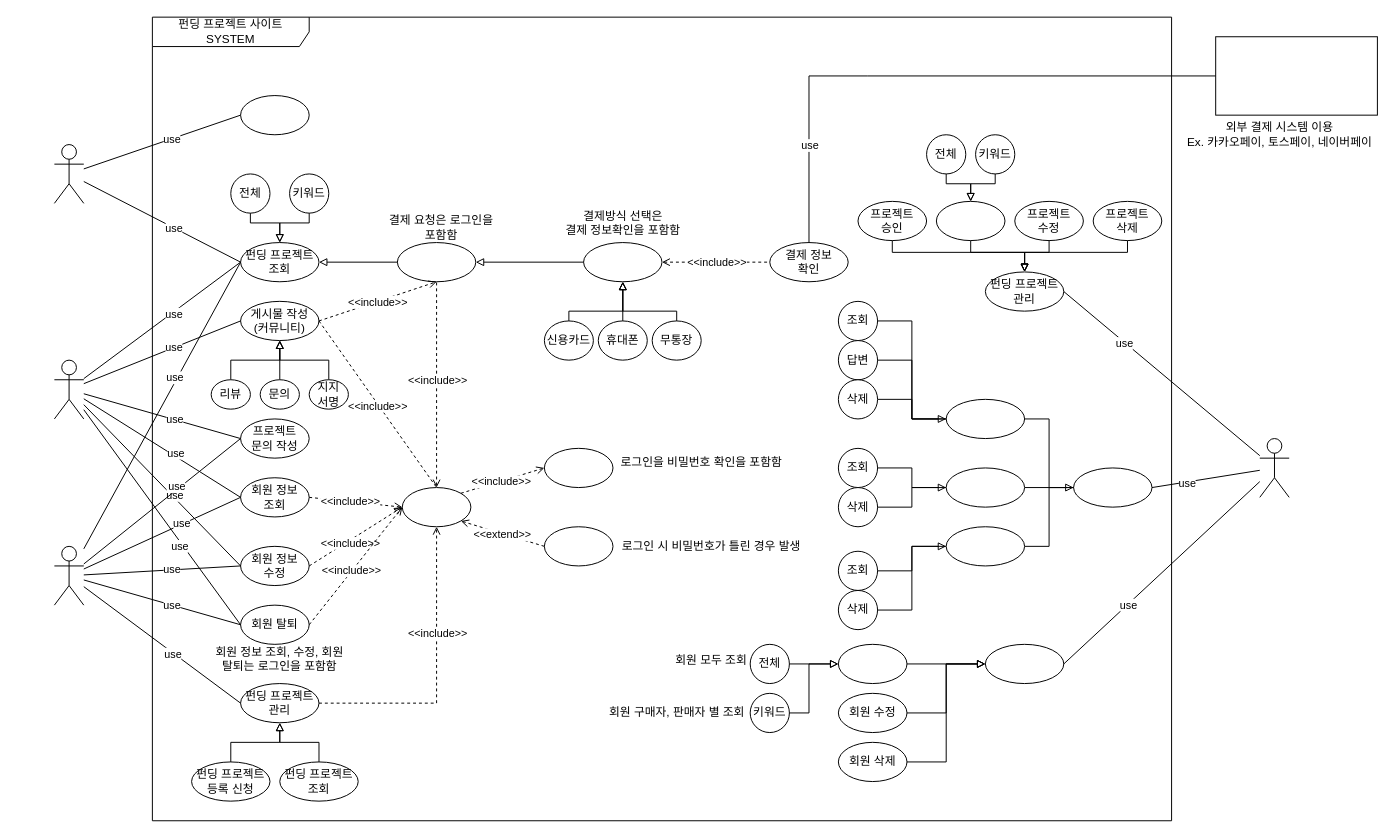
The diagram is 1395 pixels wide and 838 high, and some of its shapes have lost their labels. The shapes that lost their labels are listed below. From the top down, each one's centre as x and y in pixels, then its label:
At (x=1296, y=75): "결제 시스템".
At (x=274, y=115): "회원가입".
At (x=68, y=173): "비회원 회원가입을 하지 않은 웹사이트 방문자".
At (x=970, y=220): "프로젝트 조회".
At (x=436, y=262): "펀딩 프로젝트 결제 요청".
At (x=622, y=262): "결제 방식 선택".
At (x=68, y=389): "회원 구매자 펀딩프로젝트에 참여하는 사람".
At (x=985, y=418): "문의 관리".
At (x=578, y=467): "비밀번호 확인".
At (x=985, y=487): "리뷰 관리".
At (x=1112, y=487): "커뮤니티 관리".
At (x=1274, y=467): "관리자 펀딩프로젝트 관리 및 전체 사이트 운영하는 사람".
At (x=436, y=507): "로그인".
At (x=578, y=546): "로그인 에러 출력".
At (x=985, y=546): "지지서명 관리".
At (x=68, y=575): "회원 판매자 펀딩프로젝트를 등록신청하는 사람".
At (x=872, y=663): "회원 조회".
At (x=1024, y=663): "회원 관리".
